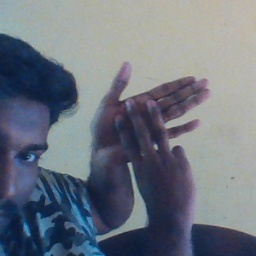M: (84, 62, 216, 216)
